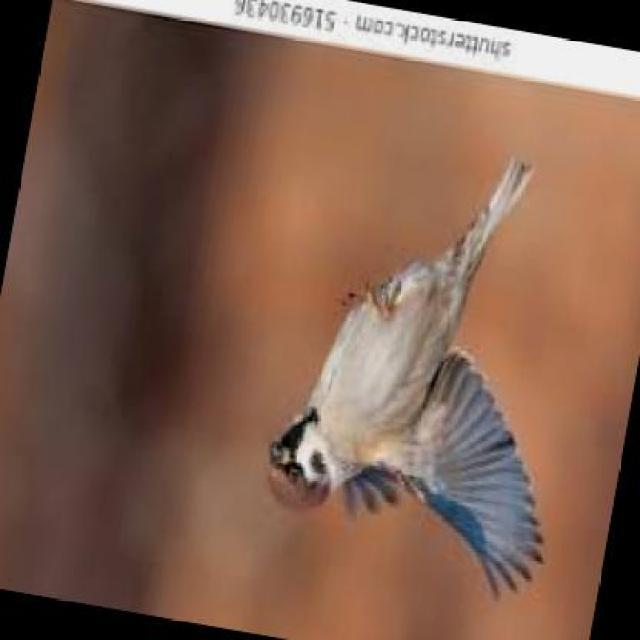Bird: (265, 152, 575, 593)
